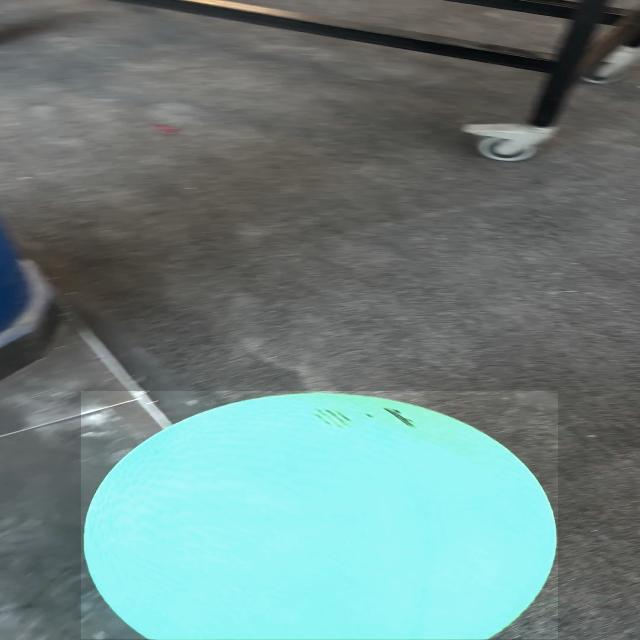Algae: (81, 391, 558, 639)
